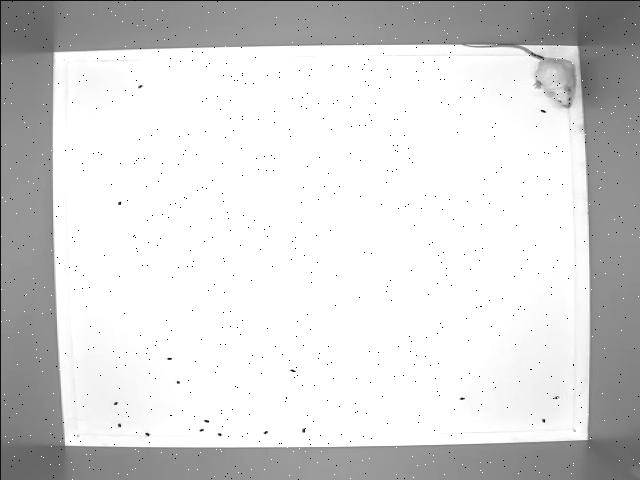Tikus: (455, 41, 585, 111)
